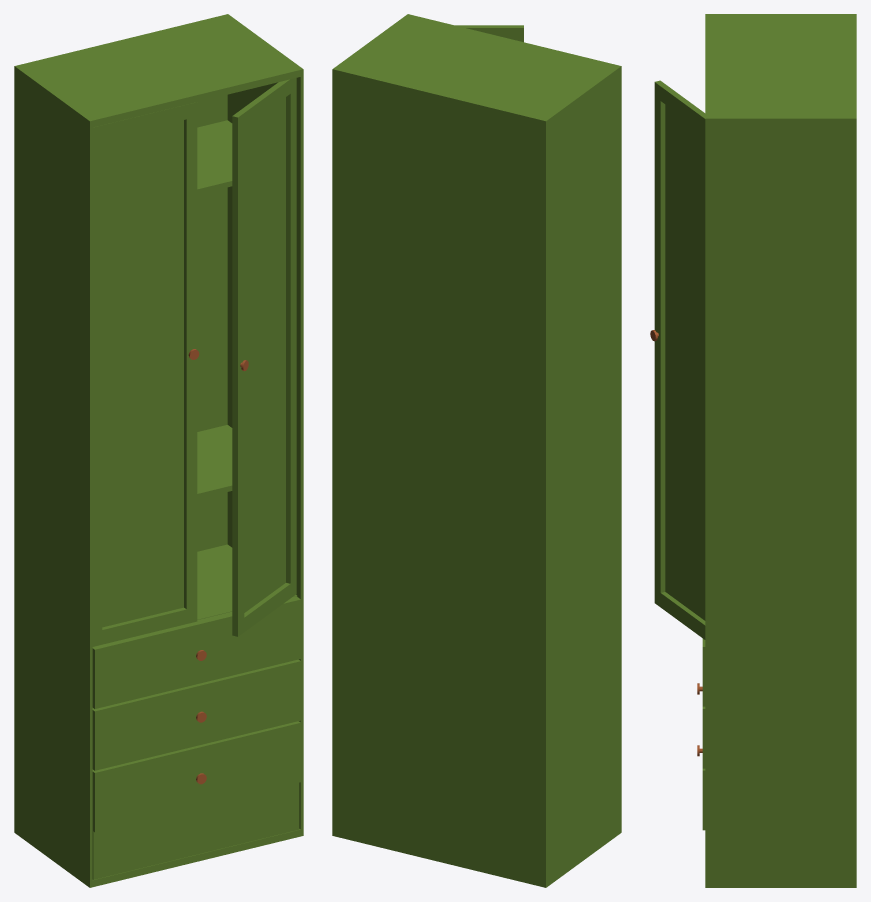
The model's file is uploads_files_915043_wardrobe_lp.FBX.
The picture shows the model from 3 angles, left to right: view 1: azimuth 30°, elevation 25°; view 2: azimuth 150°, elevation 25°; view 3: azimuth 270°, elevation 25°; orthographic projection.
Parts seen in each view (by area): view 1: Box001, Box009; view 2: Box001; view 3: Box001.
Boxes of the visible parts, <box> form: Box001: <box>14,14,303,887</box>; Box009: <box>197,544,297,619</box>; Box001: <box>332,14,621,887</box>; Box001: <box>654,14,856,887</box>.
Bounding box in the file's own units: 36.96 × 127 × 30.82.
